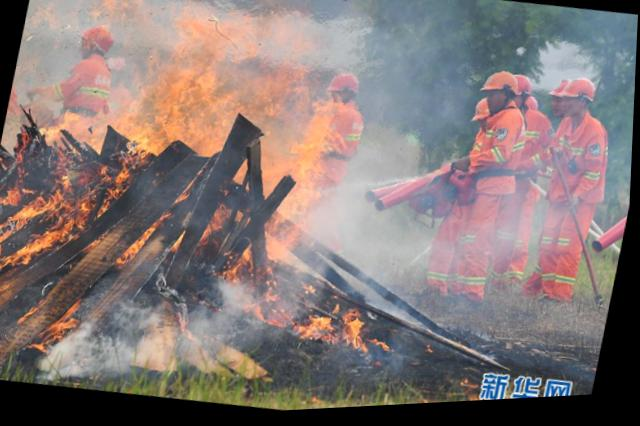fire: (0, 0, 448, 408)
